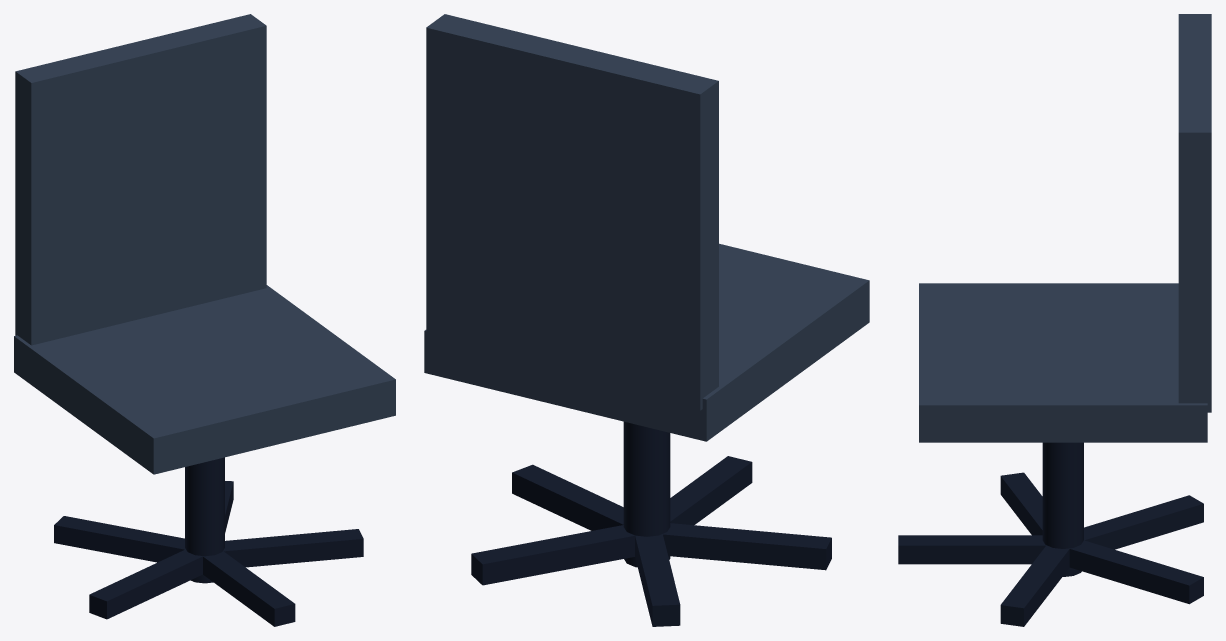
Rendered from chair.glb.
The picture shows the model from 3 angles, left to right: view 1: azimuth 30°, elevation 25°; view 2: azimuth 150°, elevation 25°; view 3: azimuth 270°, elevation 25°; orthographic projection. The views are drawn at different scales.
Bounding box in the file's own units: 0.7794 × 1.33 × 0.76.
